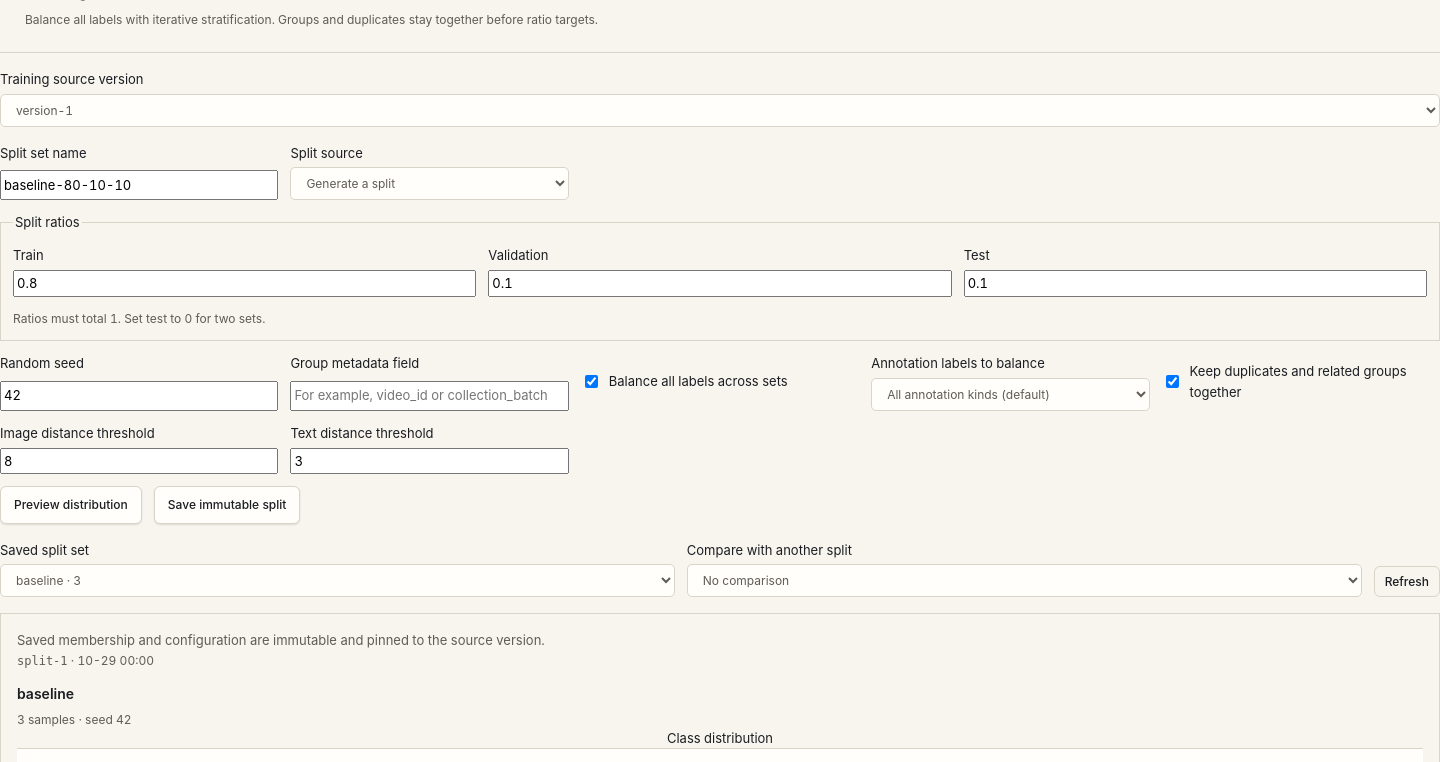
Test: reads directory splits and renders all four checked kinds of pair evidence
Expected: the heading "baseline" is shown, [17,685,74,702]
Select "Use existing train / val / test directories" in the dropdown labelled "Split source" at (430, 184), box [290,167,569,200]
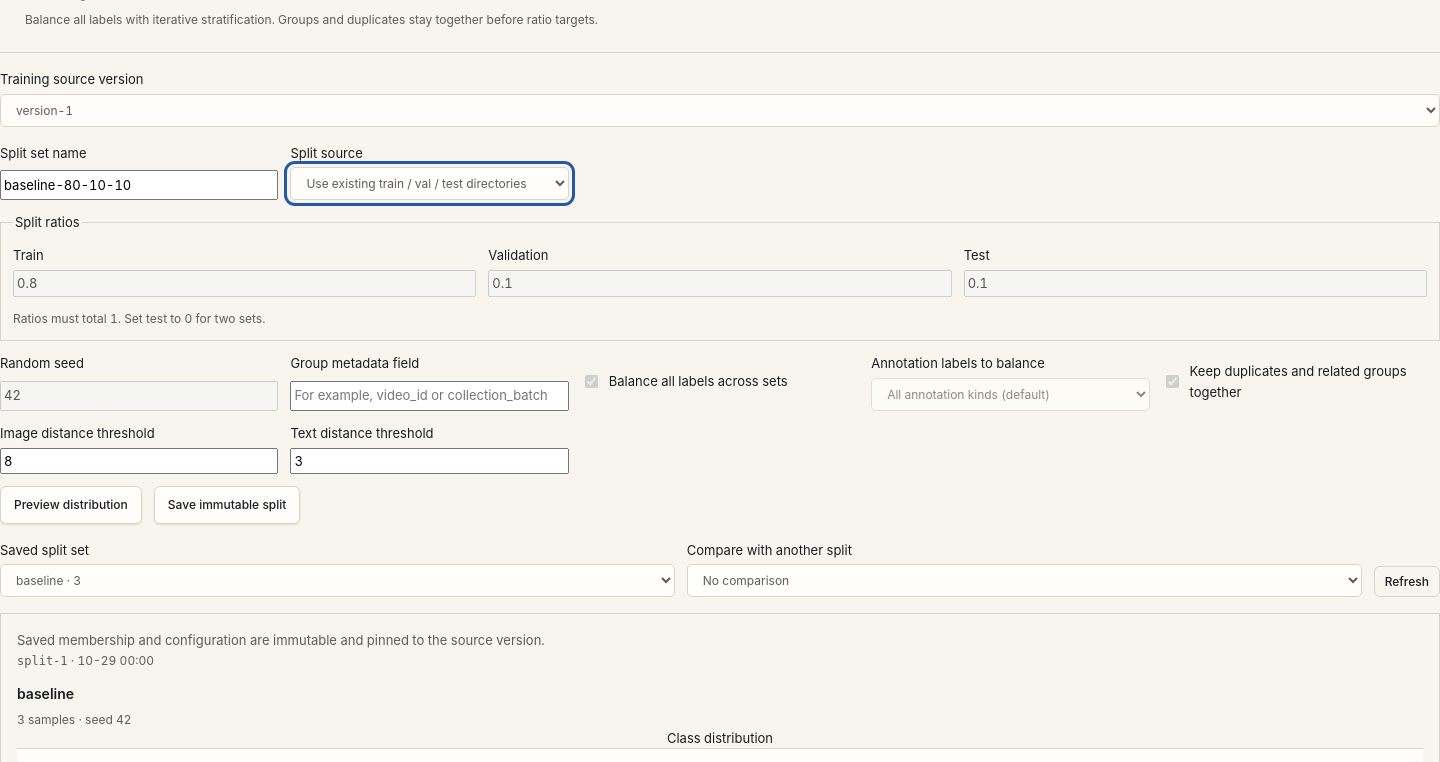
Now the number field labelled "Random seed" is disabled, box [0,381,278,411]
Click the button "Save immutable split" at (227, 505), box [154,486,300,524]
(page scrolled)
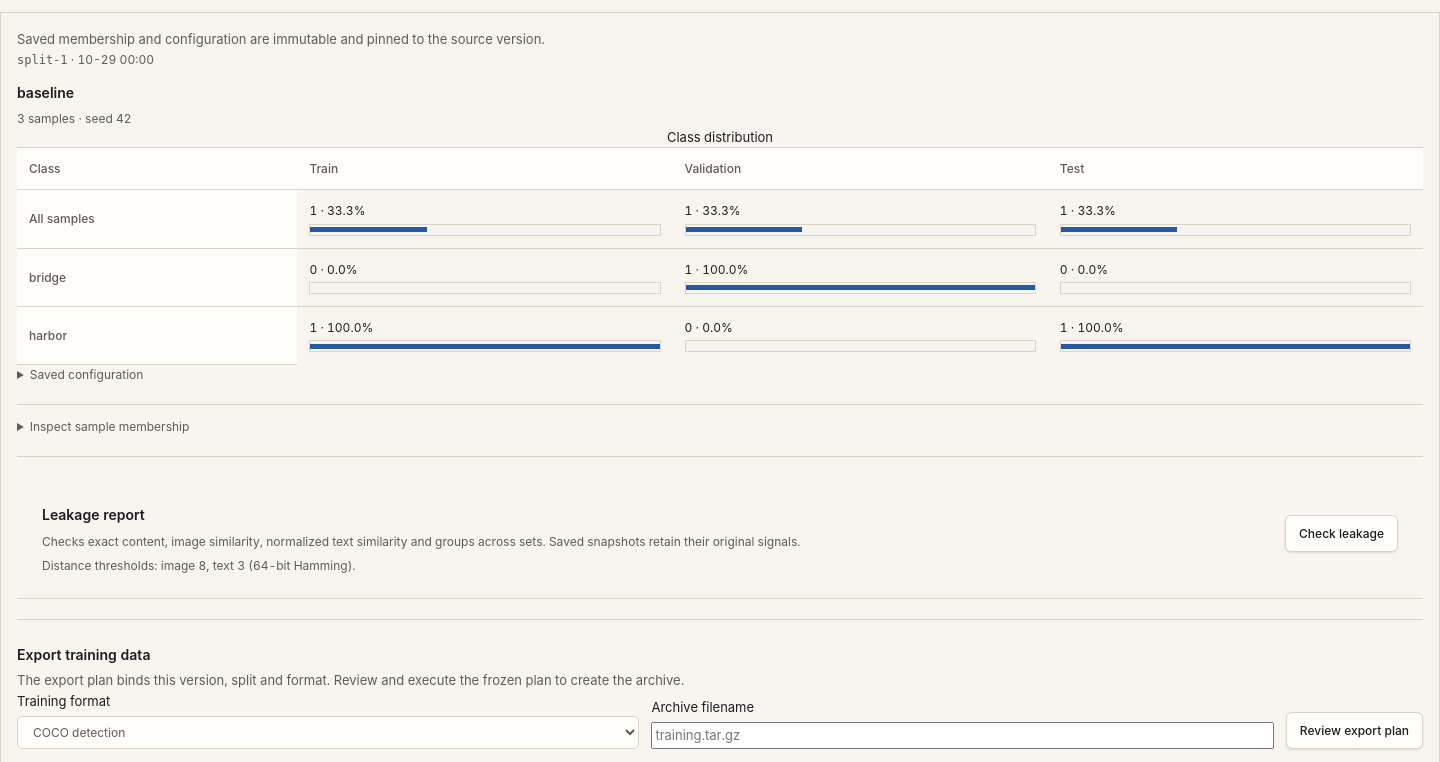
Click the button "Check leakage" at (1342, 534), box [1285,515,1398,552]
(page scrolled)
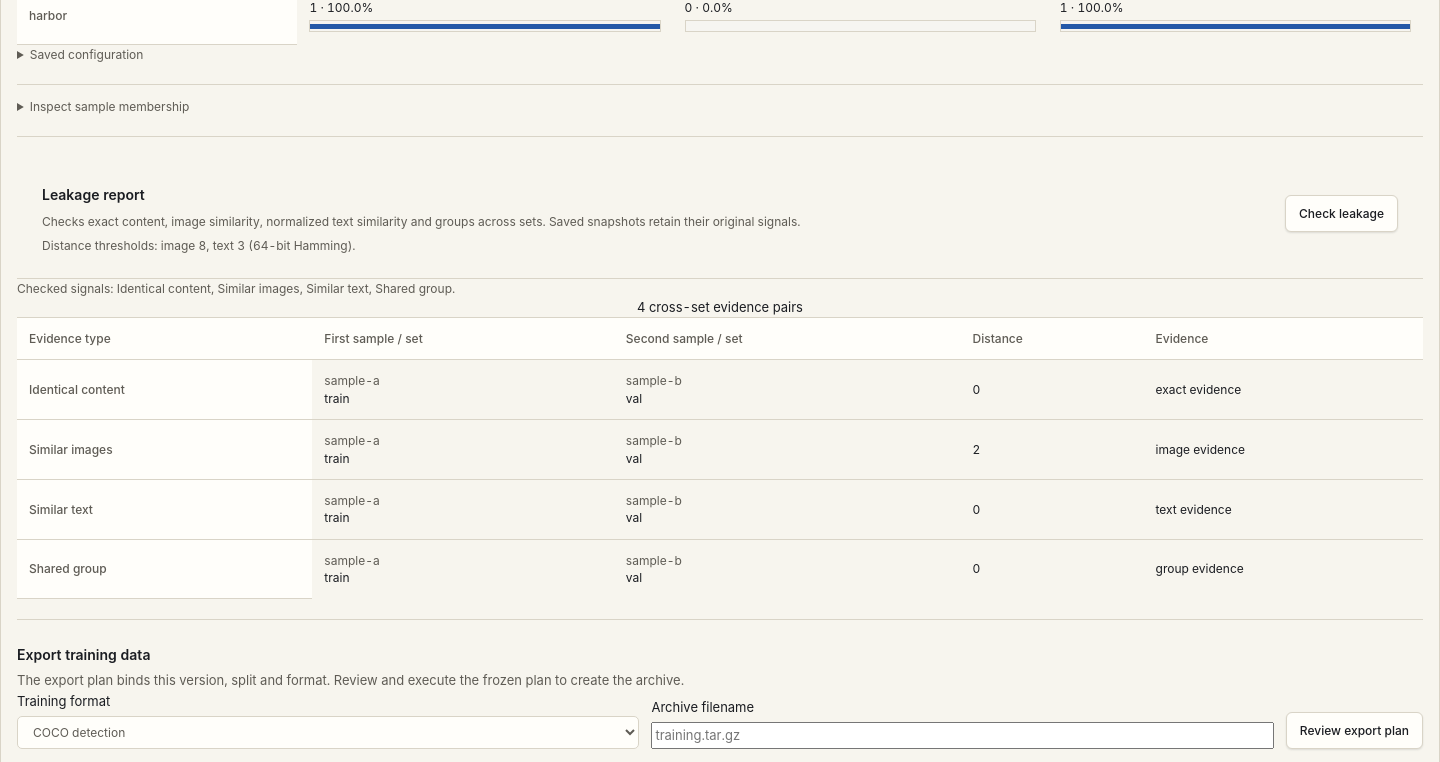
Now the table "4 cross-set evidence pairs" is shown, box [17,298,1423,599]
Now the column heading "Identical content" is shown, box [17,360,312,420]
Now the column heading "Similar images" is shown, box [17,420,312,479]
